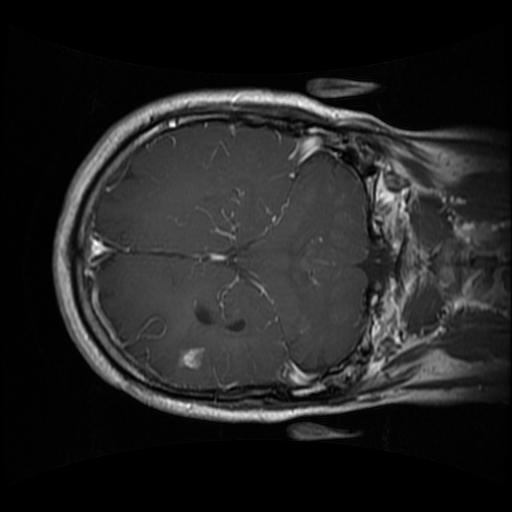glioma: (195, 305, 247, 334)
